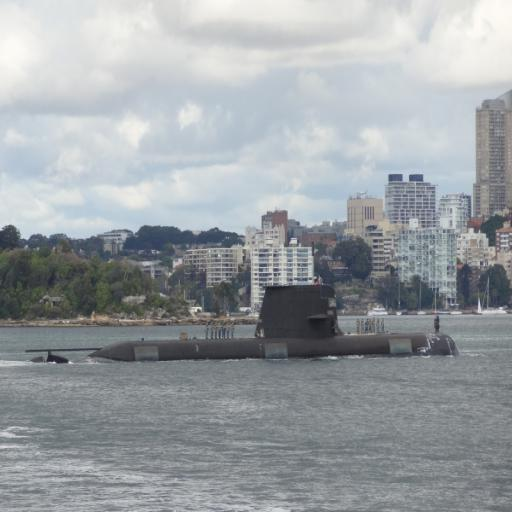submarine: (85, 287, 467, 359)
